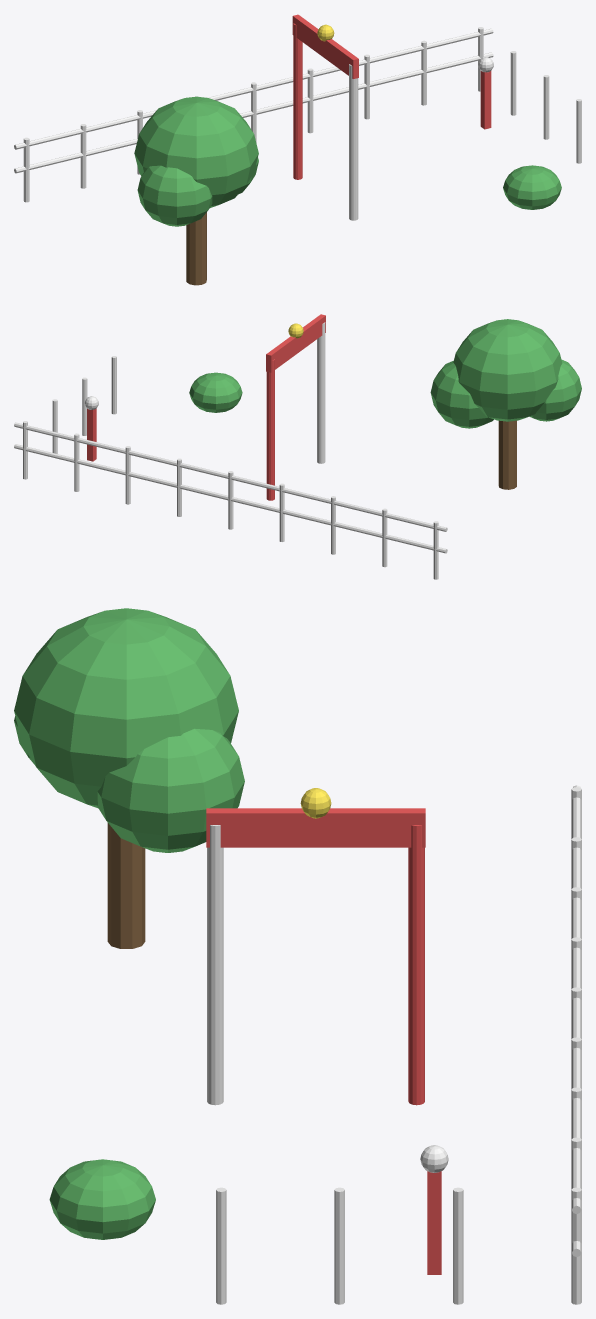
Rendered from racecourse_props.glb.
3 renders of one model, top to bottom at view 1: azimuth 30°, elevation 25°; view 2: azimuth 150°, elevation 25°; view 3: azimuth 270°, elevation 25°, orthographic. The views are drawn at different scales.
Visible parts, largest first — view 1: Tree_Leaf_1, Tree_Leaf_3, Rail_Rail_1, Bush_1, Rail_Rail_2, Goal_CrossBoard, GoalPost_R, GoalPost_L, Tree_Trunk, DistanceMarker, Rail_SidePost_2, Rail_SidePost_1 (+6 smaller); view 2: Tree_Leaf_1, Rail_Rail_2, Rail_Rail_1, Tree_Leaf_2, Bush_1, Tree_Leaf_3, Tree_Trunk, Goal_CrossBoard, GoalPost_R, GoalPost_L, DistanceMarker; view 3: Tree_Leaf_1, Tree_Leaf_2, Goal_CrossBoard, Bush_1, GoalPost_R, GoalPost_L, Tree_Trunk, Rail_Rail_1, DistanceMarker, Rail_SidePost_1, Rail_SidePost_2, Rail_SidePost_3 (+1 smaller).
Boxes of the visible parts, left/top/right/bottom form: Tree_Leaf_1: left=134, top=96, right=258, bottom=207; Tree_Leaf_3: left=137, top=165, right=212, bottom=226; Rail_Rail_1: left=14, top=28, right=493, bottom=149; Bush_1: left=503, top=165, right=561, bottom=209; Rail_Rail_2: left=14, top=52, right=493, bottom=173; Goal_CrossBoard: left=292, top=14, right=358, bottom=78; GoalPost_R: left=349, top=64, right=358, bottom=220; GoalPost_L: left=293, top=23, right=302, bottom=179; Tree_Trunk: left=186, top=212, right=206, bottom=285; DistanceMarker: left=480, top=71, right=491, bottom=129; Rail_SidePost_2: left=543, top=75, right=549, bottom=139; Rail_SidePost_1: left=510, top=51, right=516, bottom=115; Tree_Leaf_1: left=453, top=319, right=562, bottom=421; Rail_Rail_2: left=14, top=444, right=447, bottom=553; Rail_Rail_1: left=14, top=422, right=447, bottom=531; Tree_Leaf_2: left=430, top=361, right=493, bottom=428; Bush_1: left=189, top=372, right=242, bottom=412; Tree_Leaf_3: left=529, top=359, right=581, bottom=421; Tree_Trunk: left=498, top=420, right=516, bottom=489; Goal_CrossBoard: left=266, top=314, right=325, bottom=372; GoalPost_R: left=317, top=322, right=325, bottom=463; GoalPost_L: left=266, top=359, right=274, bottom=500; DistanceMarker: left=87, top=408, right=96, bottom=461; Tree_Leaf_1: left=14, top=608, right=238, bottom=808; Tree_Leaf_2: left=97, top=728, right=244, bottom=852; Goal_CrossBoard: left=206, top=808, right=425, bottom=847; Bush_1: left=49, top=1159, right=155, bottom=1239; GoalPost_R: left=207, top=825, right=223, bottom=1105; GoalPost_L: left=408, top=825, right=424, bottom=1105; Tree_Trunk: left=107, top=823, right=145, bottom=948; Rail_Rail_1: left=572, top=785, right=581, bottom=1214; DistanceMarker: left=427, top=1171, right=441, bottom=1274; Rail_SidePost_1: left=453, top=1187, right=463, bottom=1304; Rail_SidePost_2: left=334, top=1187, right=344, bottom=1304; Rail_SidePost_3: left=216, top=1187, right=226, bottom=1304.
Bounding box in the file's own units: 8.55 × 3.02 × 4.8.
